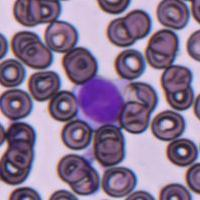L: (76, 74, 124, 125)
